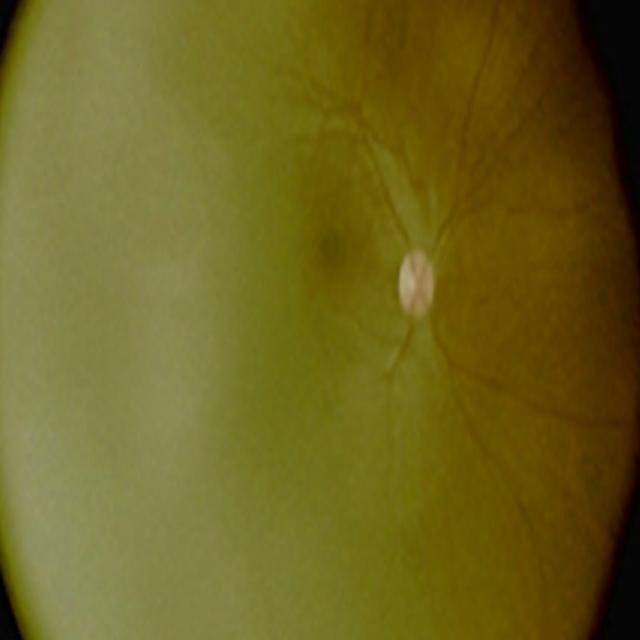optic-nerve: (378, 208, 461, 372)
